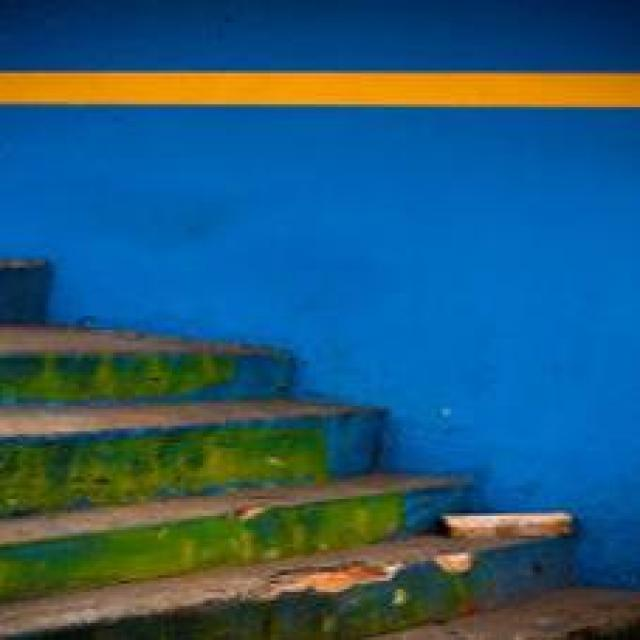stair: (1, 257, 631, 640)
